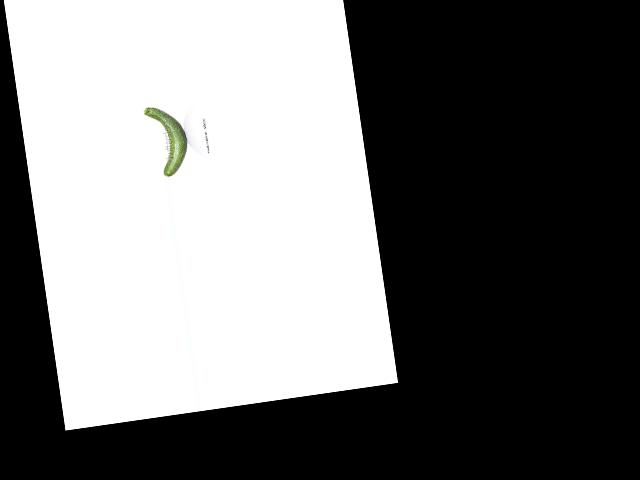cucumber: (143, 102, 191, 178)
